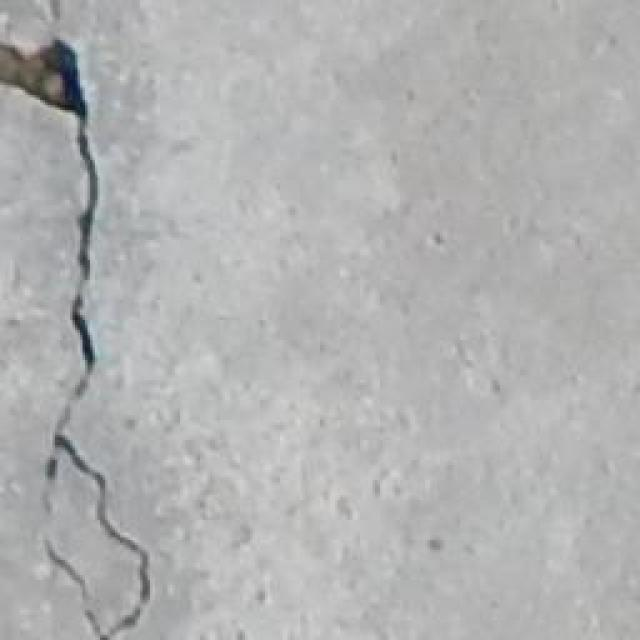concrete-crack: (0, 25, 155, 640)
